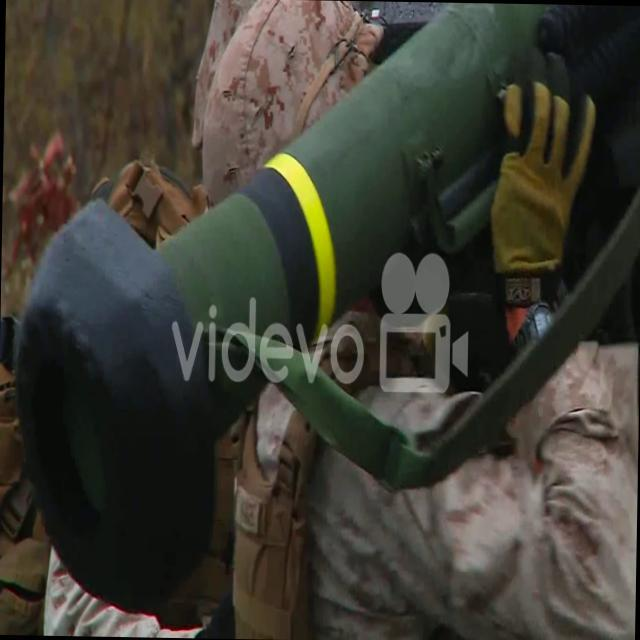rocket: (18, 0, 500, 614)
